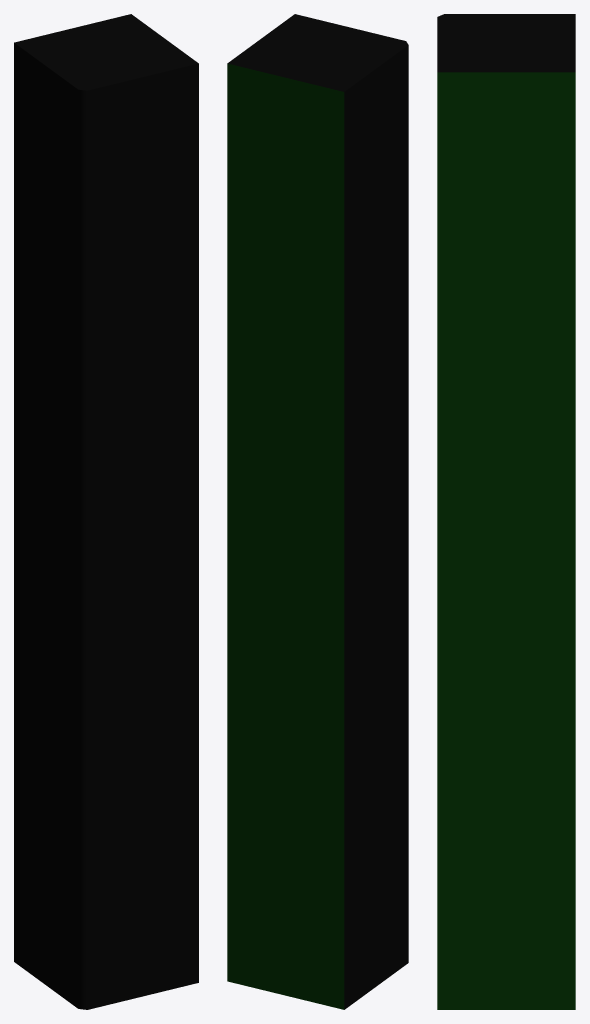
The model's file is DBK_Brick_Corner_Short.fbx.
3 views of the same model, side by side, from view 1: azimuth 30°, elevation 25°; view 2: azimuth 150°, elevation 25°; view 3: azimuth 270°, elevation 25° (orthographic). The views are drawn at different scales.
Visible parts, largest first — view 1: DBK_Brick_Corner_Short; view 2: DBK_Brick_Corner_Short; view 3: DBK_Brick_Corner_Short.
Part boxes in pixels (x1,y1,x2,y2): DBK_Brick_Corner_Short: [14, 14, 198, 1009]; DBK_Brick_Corner_Short: [227, 14, 408, 1009]; DBK_Brick_Corner_Short: [437, 14, 575, 1009].
Size of the model in its own units: 20 by 150 by 20.
